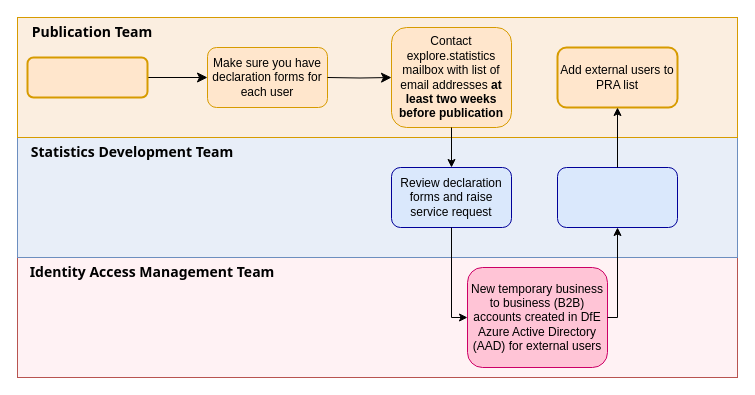
Image size: 755x395. Some labels were removed from this diagram. The shapes that lost their labels are listed below. From the top down, each one's centre as x and y in pixels, then its label:
At (87,77): "External users need PRA on EES".
At (617,197): "Confirmation of new accounts received".
